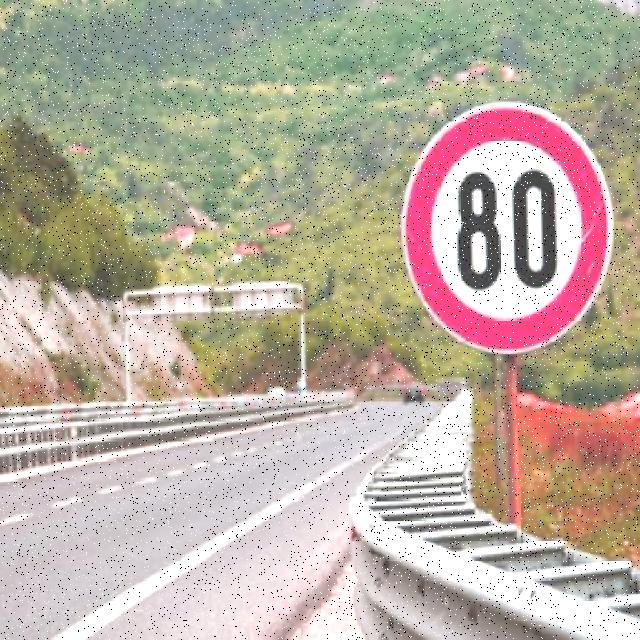Ograniczenie predkosci do 80: (400, 96, 618, 356)
